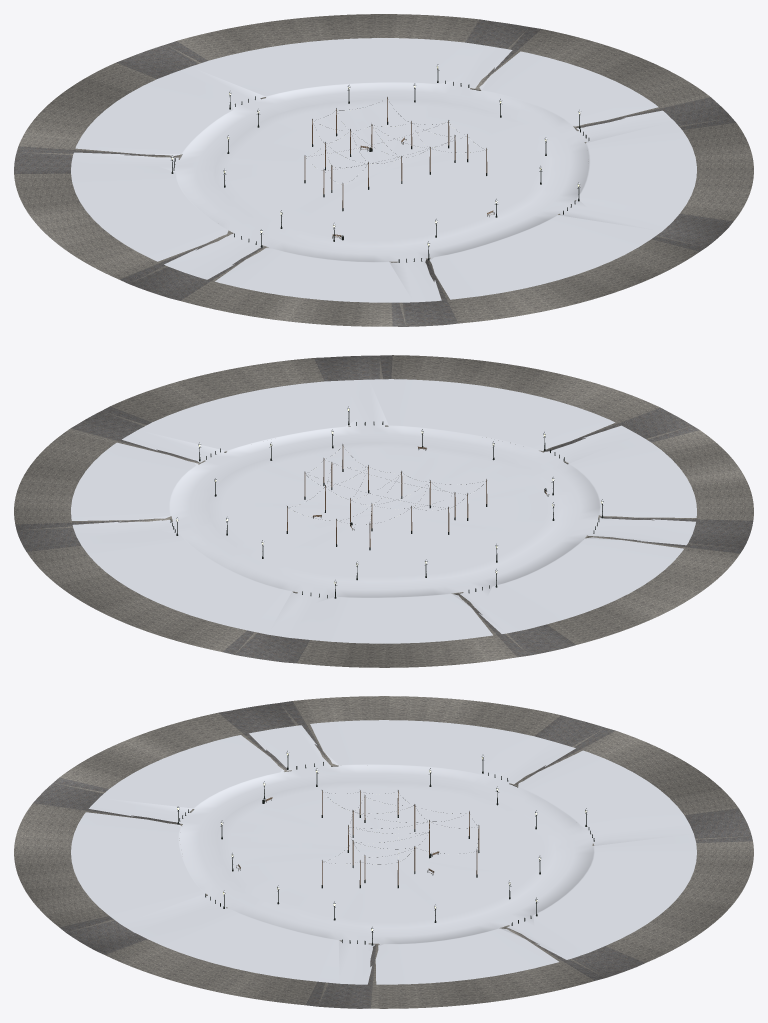
Rendered from square.glb.
3 views of the same model, one above another, from view 1: azimuth 30°, elevation 25°; view 2: azimuth 150°, elevation 25°; view 3: azimuth 270°, elevation 25° (orthographic).
Visible parts, largest first — view 1: snow_ground, ground, street_iron, poles_wood; view 2: snow_ground, ground, street_iron, poles_wood; view 3: snow_ground, ground, street_iron, poles_wood.
Part boxes in pixels (left/top/right/bottom): snow_ground: left=71, top=38, right=696, bottom=302; ground: left=14, top=14, right=753, bottom=326; street_iron: left=171, top=64, right=589, bottom=262; poles_wood: left=304, top=97, right=487, bottom=208; snow_ground: left=71, top=379, right=696, bottom=643; ground: left=14, top=355, right=753, bottom=667; street_iron: left=170, top=406, right=603, bottom=598; poles_wood: left=287, top=445, right=487, bottom=547; snow_ground: left=71, top=720, right=696, bottom=984; ground: left=14, top=696, right=753, bottom=1008; street_iron: left=177, top=751, right=594, bottom=945; poles_wood: left=322, top=790, right=479, bottom=885.
Bounding box in the file's own units: 156 × 6.94 × 156.
12 materials, 7 textured.
